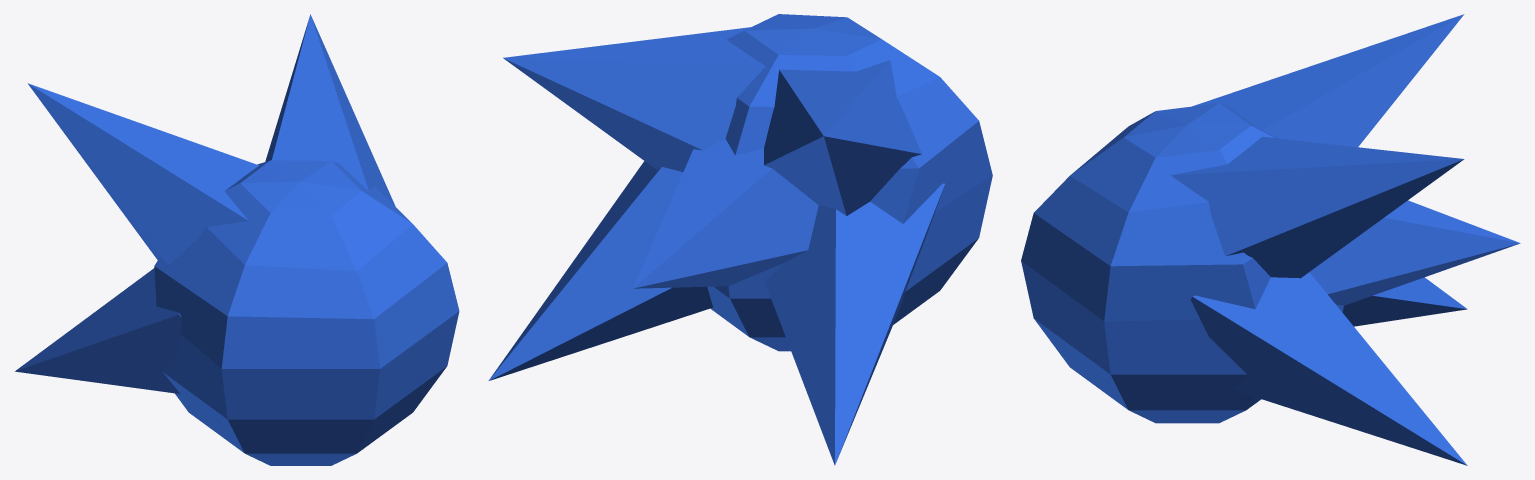
The model's file is sonic.fbx.
3 views of the same model, side by side, from view 1: azimuth 30°, elevation 25°; view 2: azimuth 150°, elevation 25°; view 3: azimuth 270°, elevation 25° (orthographic). The views are drawn at different scales.
Visible parts, largest first — view 1: sonic; view 2: sonic; view 3: sonic.
Boxes of the visible parts, x1,y1,x2,y2 form: sonic: (15, 14, 459, 465); sonic: (488, 14, 992, 465); sonic: (1021, 14, 1520, 465).
Size of the model in its own units: 515 by 498 by 695.
